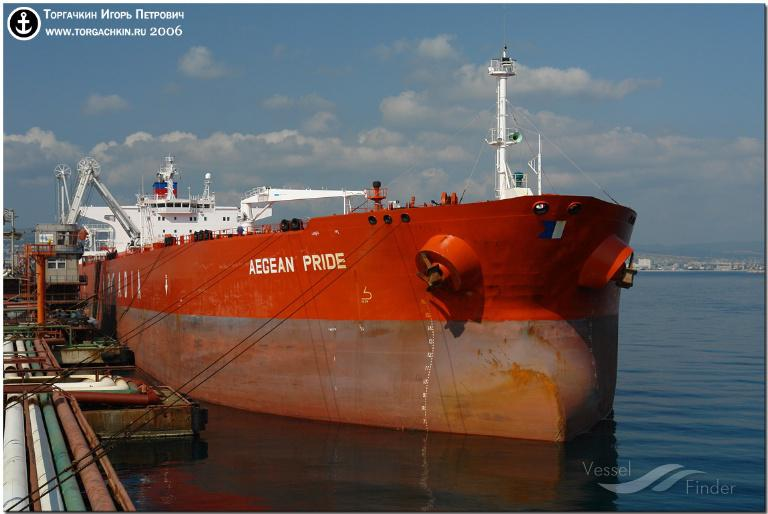OCR: (250, 247, 348, 278)
